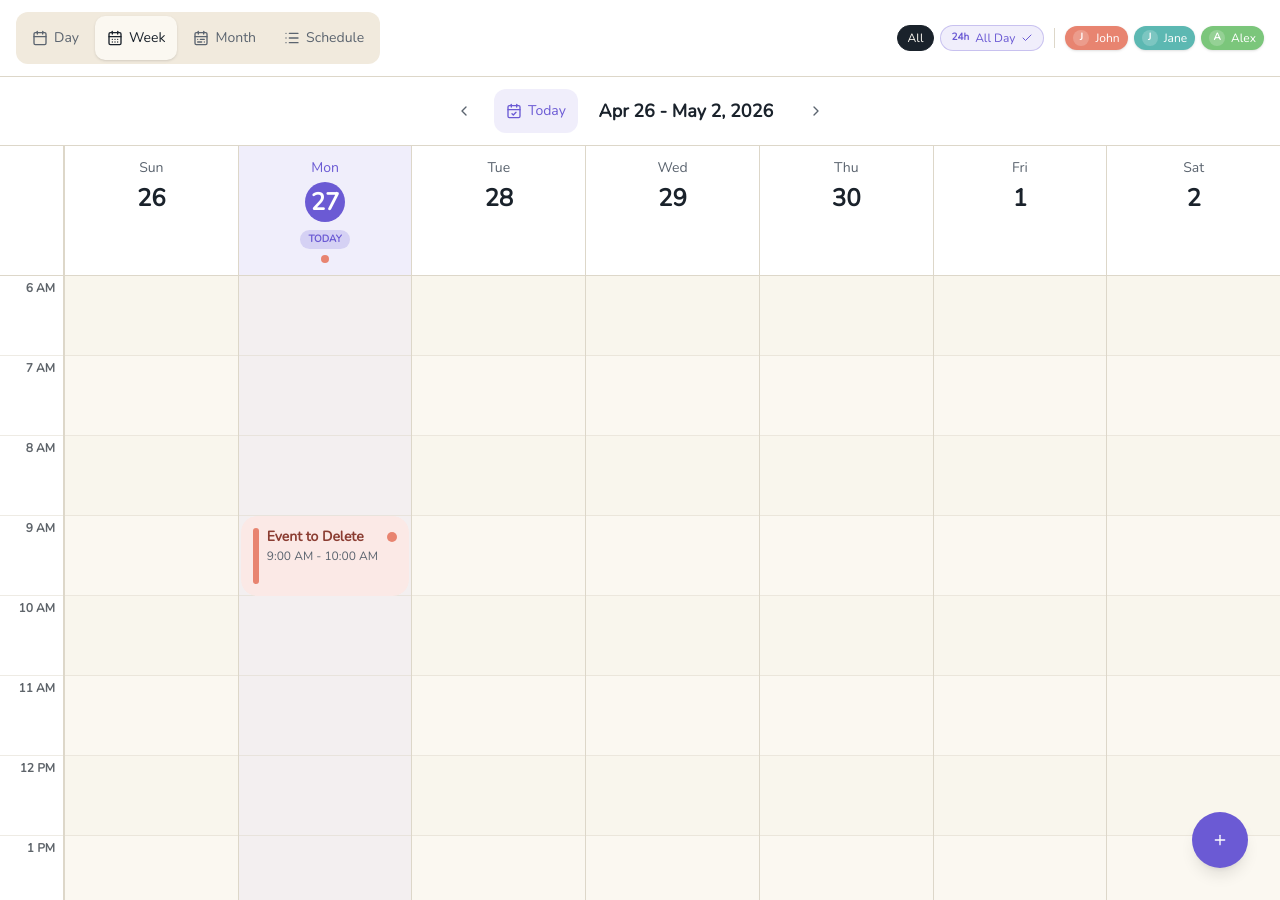
Test: CalendarModule › Delete Event Flow › deletes event after confirmation
Open detail modal
Click the heading "Event to Delete": (323, 537) [267,528,379,546]
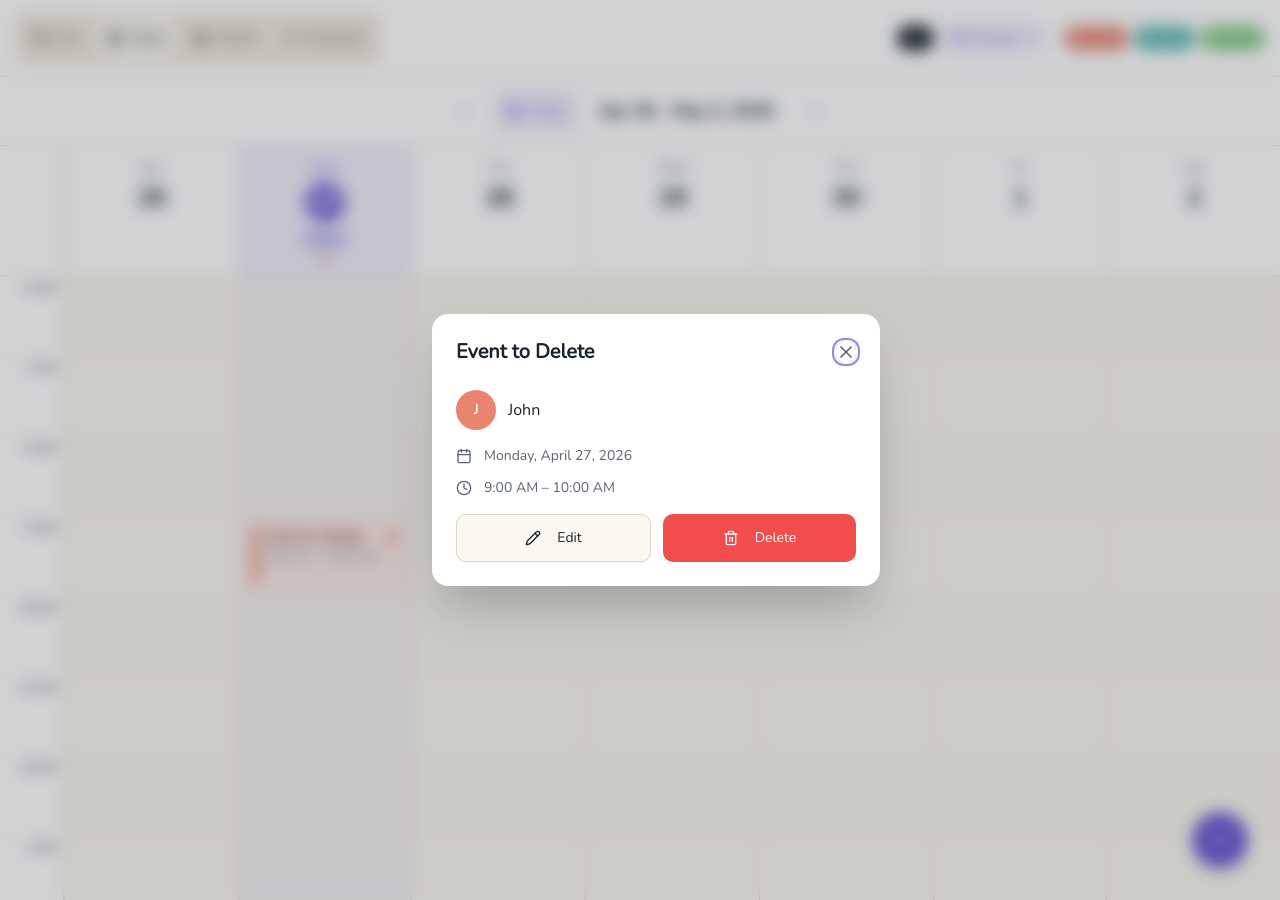
Now the dialog is shown, box [432,314,880,586]
Click delete
Click the button "Delete": (760, 538) [663,514,856,562]
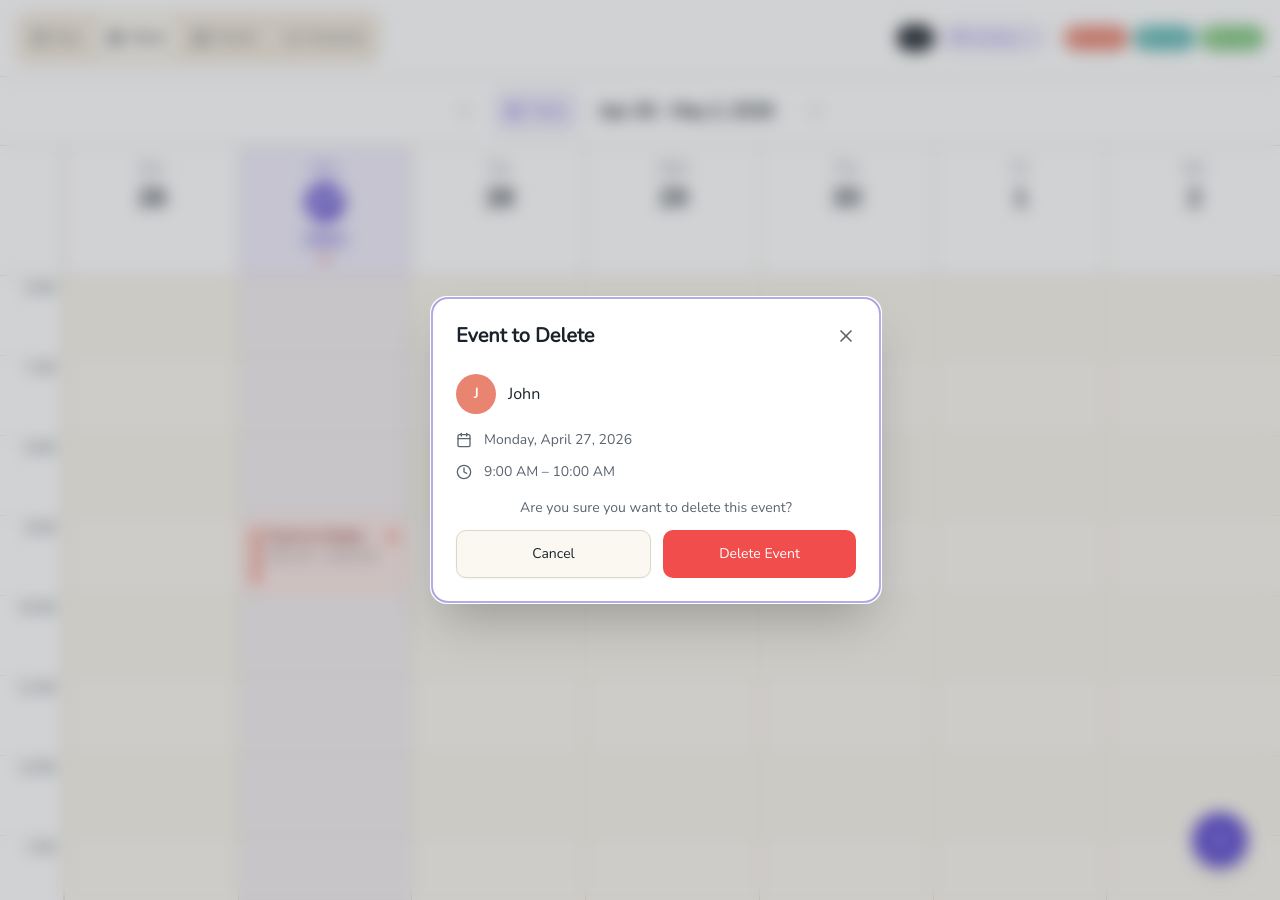
Now the text "Are you sure you want to delete this event?" is shown, box [520,498,792,517]
Click the button "Delete Event": (760, 554) [663,530,856,578]
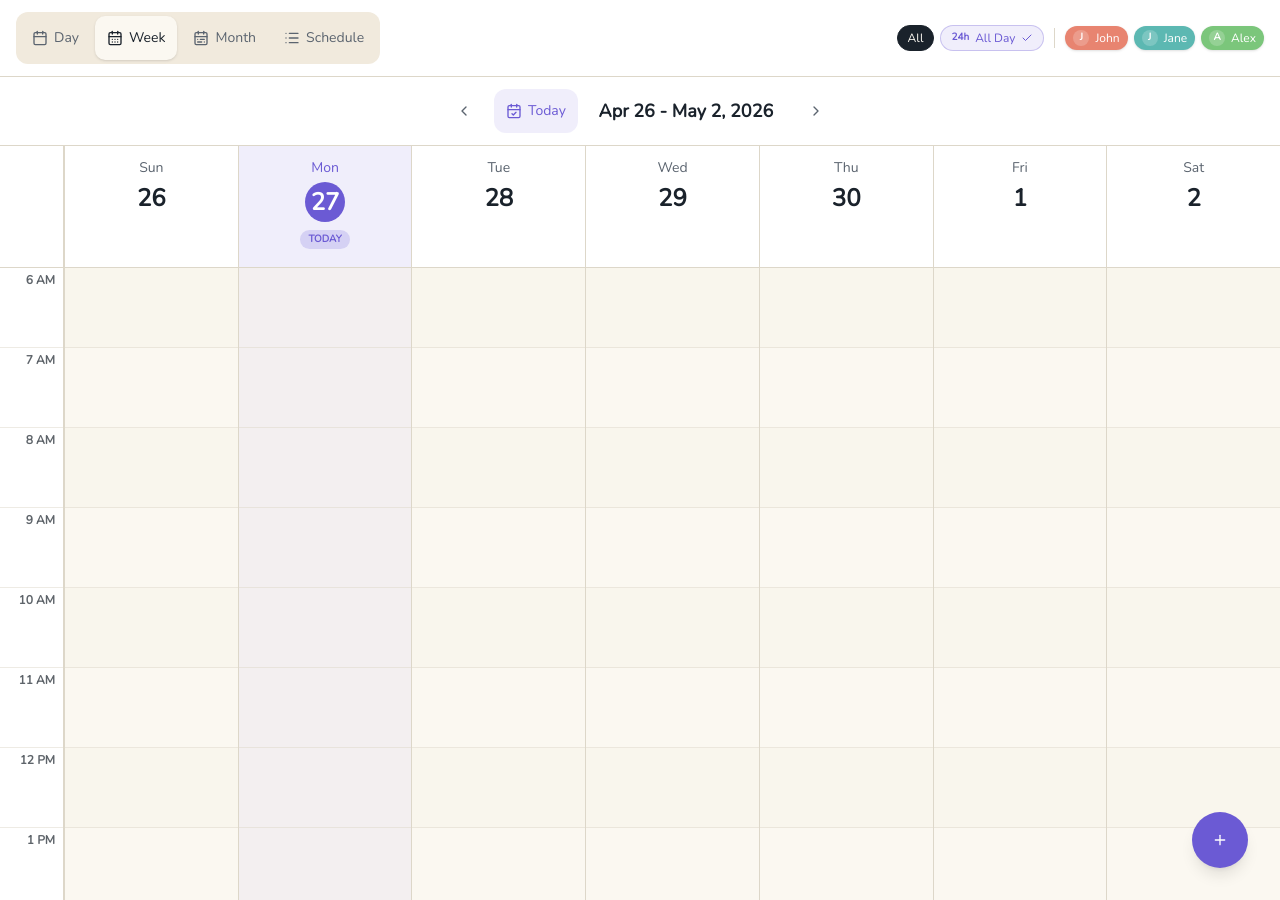
Now the dialog is gone
Now the button "Event to Delete" is gone
